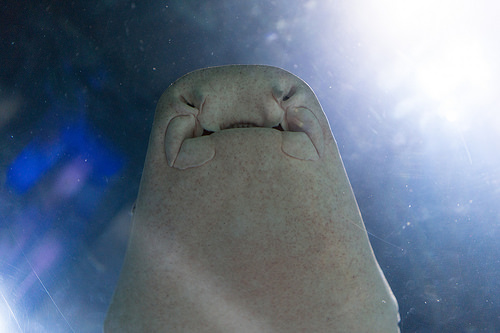shark: (79, 44, 416, 329)
